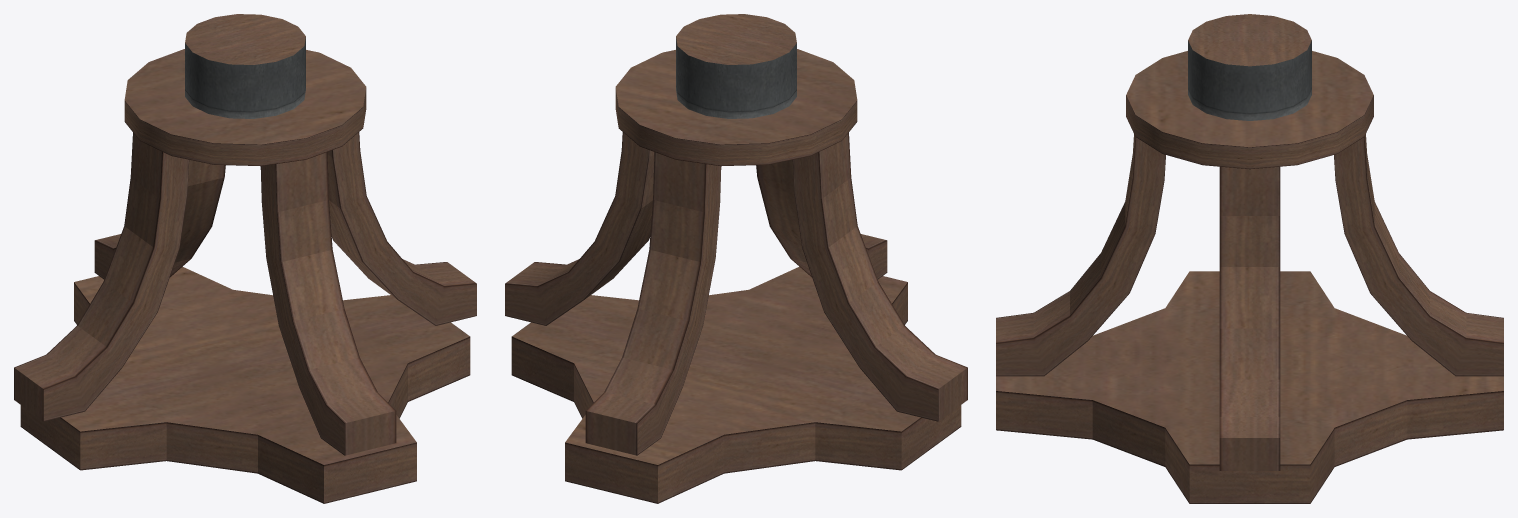
The model's file is Burning Glass_Base.fbx.
The picture shows the model from 3 angles, left to right: view 1: azimuth 30°, elevation 25°; view 2: azimuth 150°, elevation 25°; view 3: azimuth 270°, elevation 25°; orthographic projection.
Visible parts, largest first — view 1: polySurface406; view 2: polySurface406; view 3: polySurface406.
Boxes of the visible parts, x1,y1,x2,y2 form: polySurface406: (14, 14, 476, 503); polySurface406: (505, 14, 967, 503); polySurface406: (996, 14, 1503, 503).
Size of the model in its own units: 75.6 by 60.3 by 75.6.
1 material, 1 textured.
